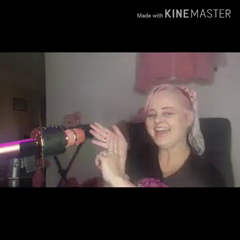N: (88, 116, 134, 184)
